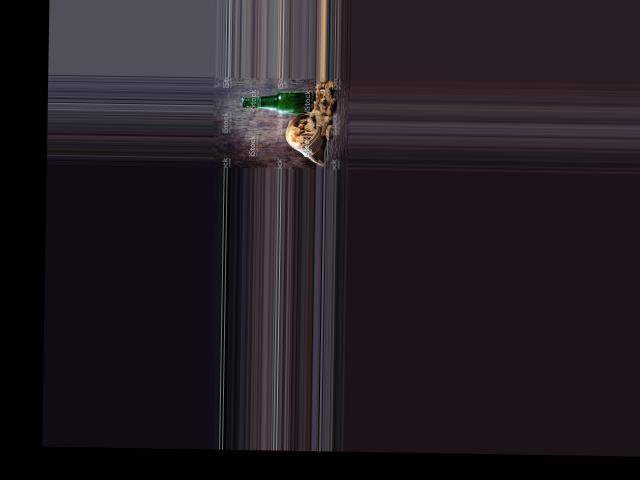beer: (241, 90, 321, 114)
